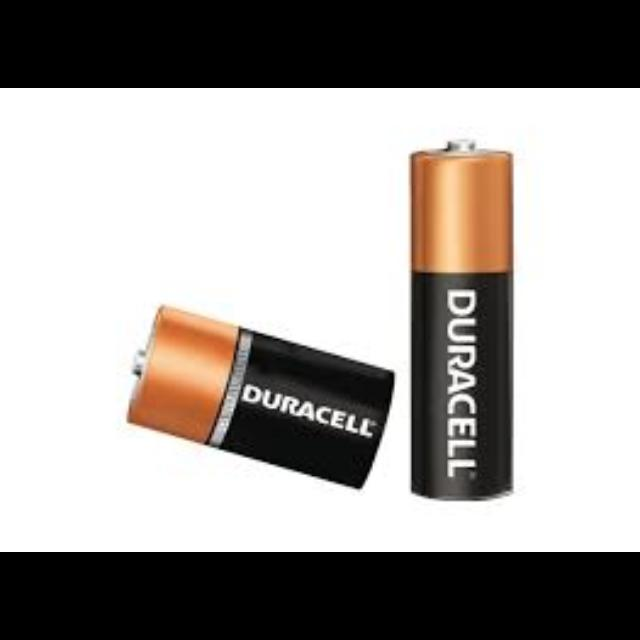Battery: (122, 307, 393, 488), (414, 144, 513, 500)
